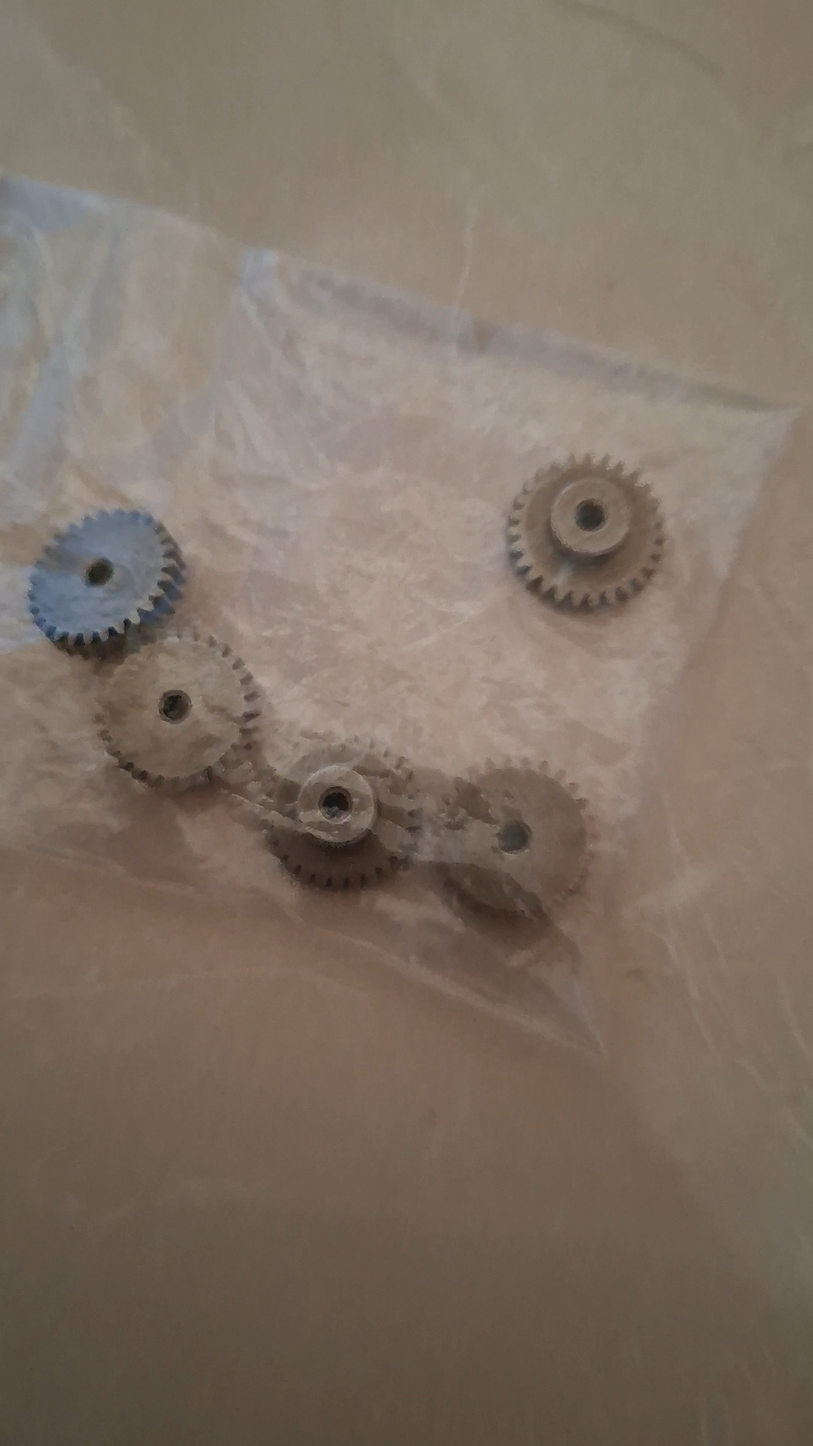spur gear: (97, 631, 259, 785), (255, 740, 419, 889), (432, 762, 588, 917), (508, 456, 665, 607), (29, 510, 183, 651)
